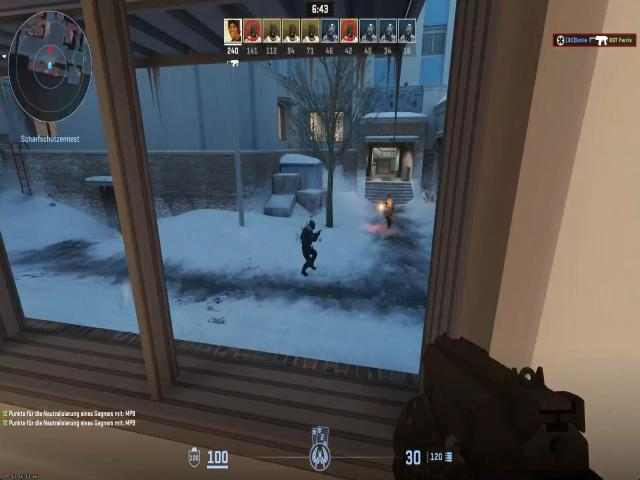CT: (298, 215, 319, 266)
CT-Head: (306, 218, 316, 232)
T: (384, 193, 396, 223)
T-Head: (385, 195, 393, 204)
